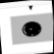correct: (19, 18, 43, 39)
